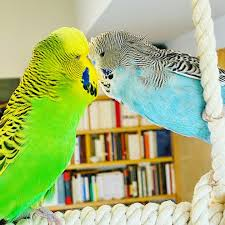budgie: (1, 27, 98, 222), (93, 29, 207, 136)
